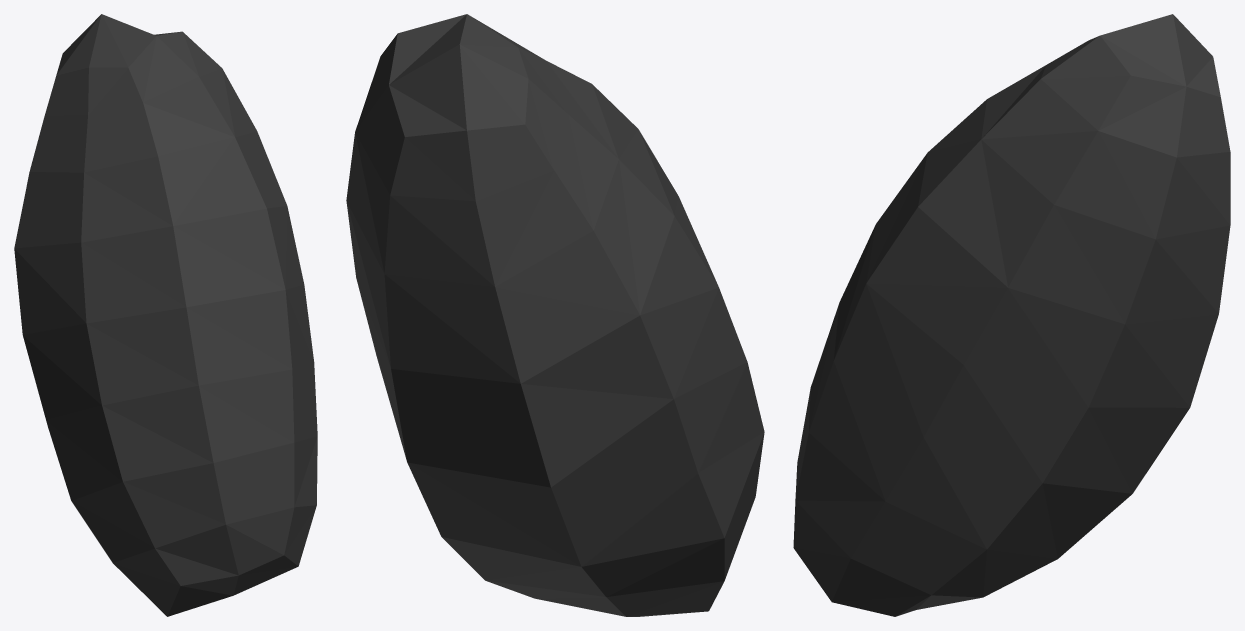
Rendered from LFL_carpal8.glb.
The picture shows the model from 3 angles, left to right: view 1: azimuth 30°, elevation 25°; view 2: azimuth 150°, elevation 25°; view 3: azimuth 270°, elevation 25°; orthographic projection. The views are drawn at different scales.
Parts seen in each view (by area): view 1: LFL_carpal8; view 2: LFL_carpal8; view 3: LFL_carpal8.
Part boxes in pixels (x1,y1,x2,y2): LFL_carpal8: (14, 14, 317, 616); LFL_carpal8: (346, 14, 764, 616); LFL_carpal8: (793, 14, 1230, 616).
Bounding box in the file's own units: 1.8 × 3.62 × 2.4.
1 material, 1 textured.
